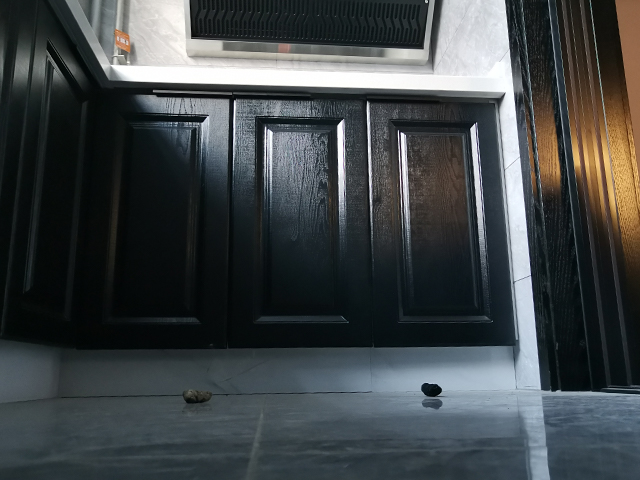cabinet: (102, 74, 517, 392)
feces: (181, 387, 214, 407), (419, 381, 445, 398)
